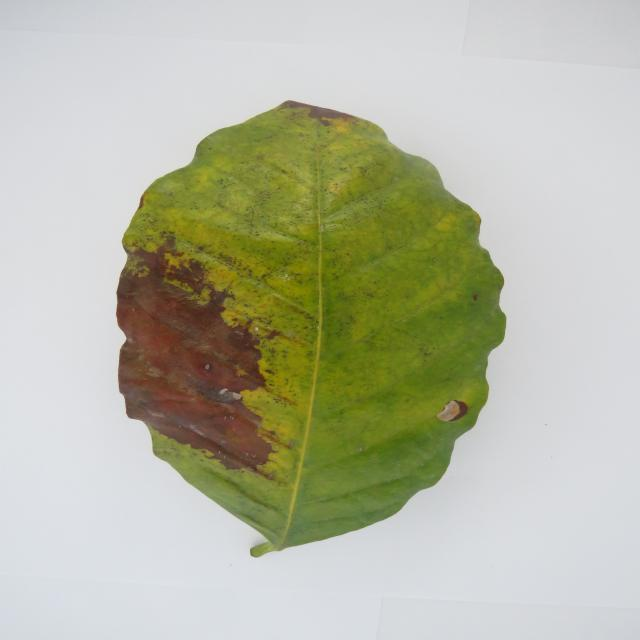DeficienciaNutricional-Potasio: (117, 101, 505, 556)
